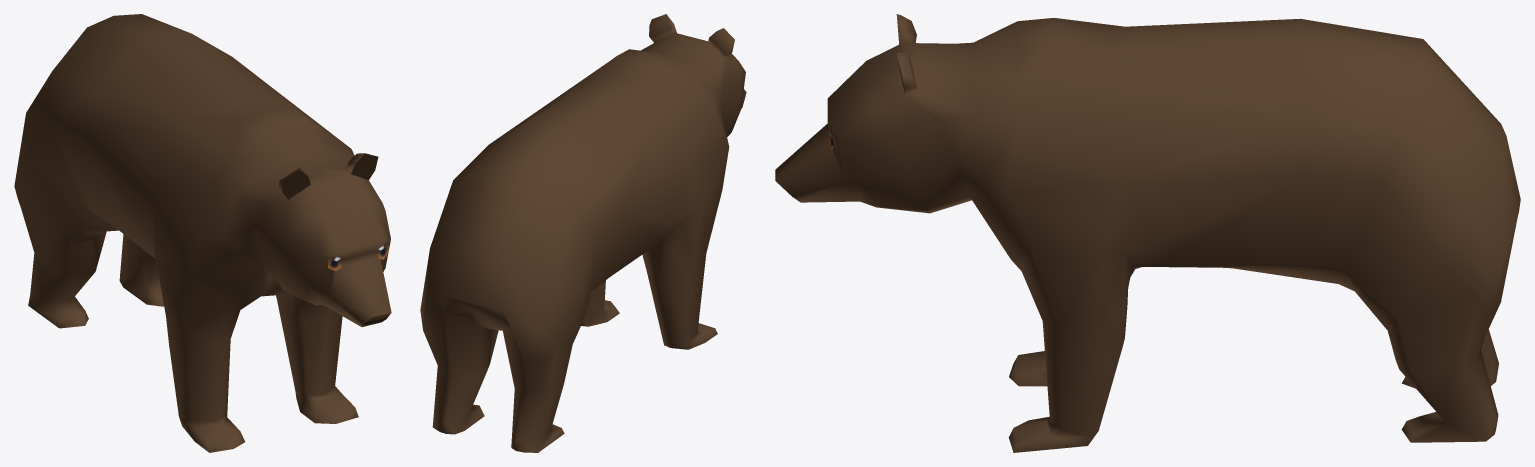
Rendered from 77b3fe14-035b-42d5-aabd-e5dbf849b1a3.glb.
3 views of the same model, side by side, from view 1: azimuth 30°, elevation 25°; view 2: azimuth 150°, elevation 25°; view 3: azimuth 270°, elevation 25° (orthographic). The views are drawn at different scales.
Parts seen in each view (by area): view 1: Bear01; view 2: Bear01; view 3: Bear01.
Boxes of the visible parts, x1,y1,x2,y2 form: Bear01: (14,14,391,452); Bear01: (420,14,746,452); Bear01: (775,14,1520,452).
Size of what is drawn, in the model's own units: 0.8826 by 1.44 by 2.55.
1 material, 1 textured.
